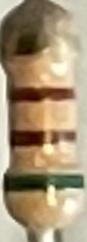Brown: (11, 130, 76, 147)
Green: (4, 172, 84, 191)
Red: (8, 86, 79, 102)
Side-Silver: (1, 28, 80, 57)
